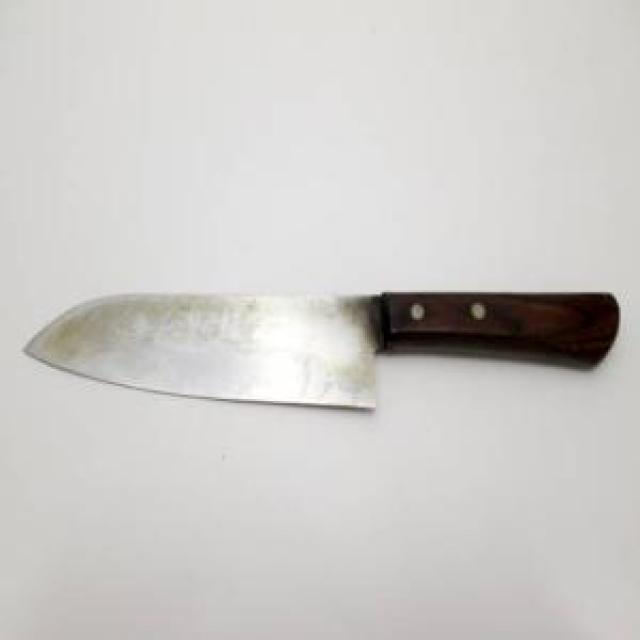knife: (21, 290, 621, 413)
